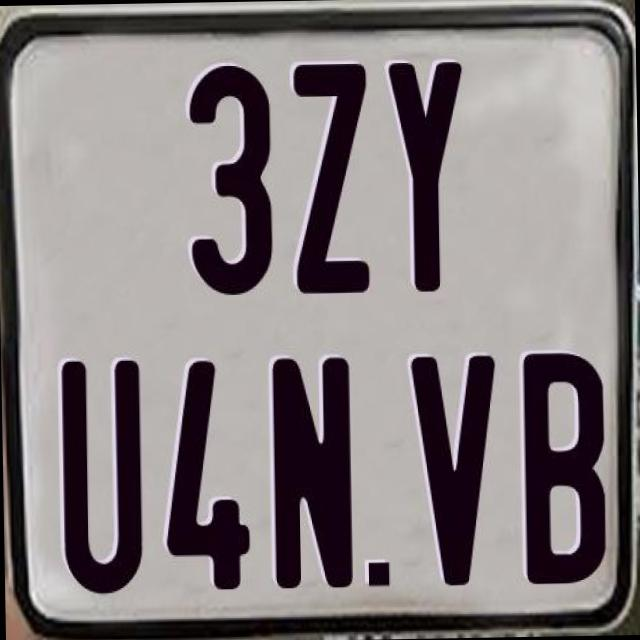3: (188, 63, 280, 294)
4: (160, 358, 250, 592)
B: (522, 352, 606, 587)
N: (267, 353, 357, 589)
U: (56, 359, 138, 603)
V: (407, 354, 503, 588)
Y: (388, 62, 470, 294)
Z: (288, 61, 372, 296)
